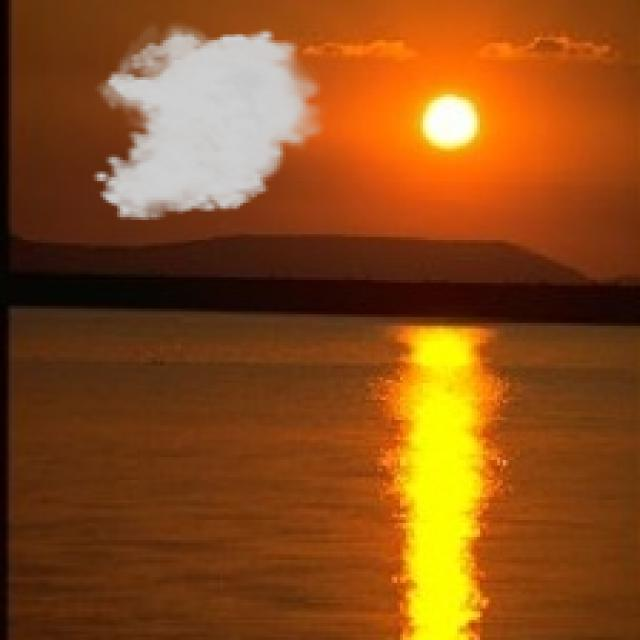smoke: (91, 17, 332, 223)
